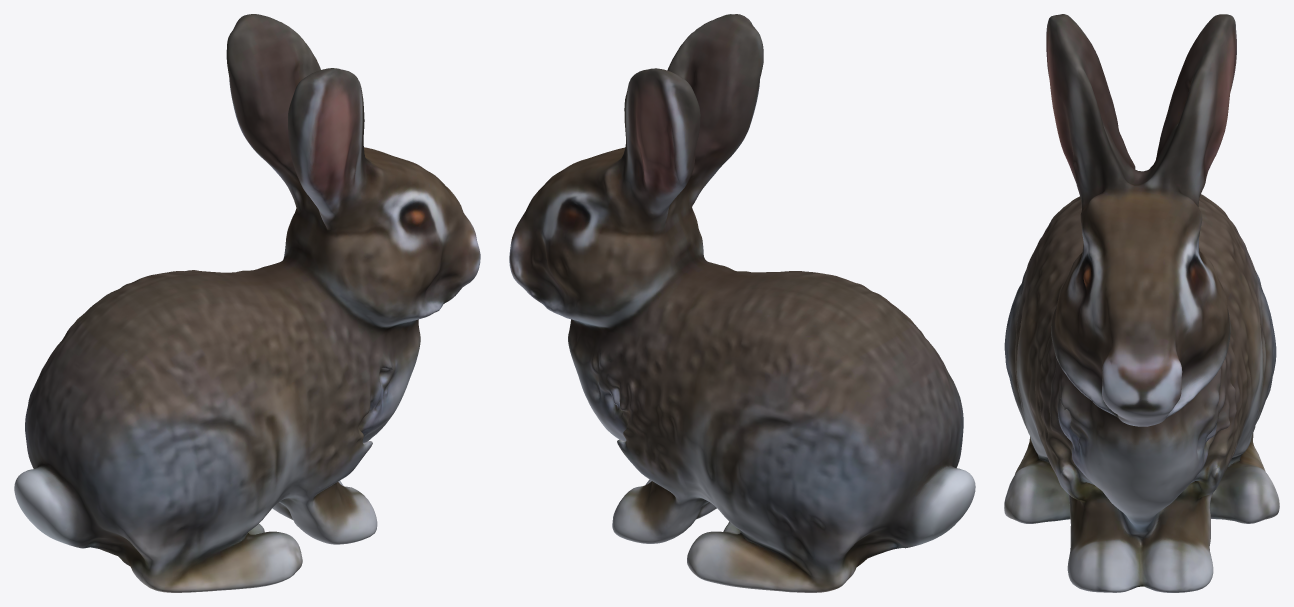
File: c9b7221975c3_rabbit__3d_asset_0_glb.glb
The picture shows the model from 3 angles, left to right: view 1: azimuth 30°, elevation 25°; view 2: azimuth 150°, elevation 25°; view 3: azimuth 270°, elevation 25°; orthographic projection. The views are drawn at different scales.
Parts seen in each view (by area): view 1: world; view 2: world; view 3: world.
Part boxes in pixels (left/top/right/bottom): world: left=14, top=14, right=480, bottom=592; world: left=509, top=14, right=975, bottom=592; world: left=1004, top=14, right=1279, bottom=592.
Bounding box in the file's own units: 0.5124 × 0.5298 × 0.2427.
1 material, 1 textured.
